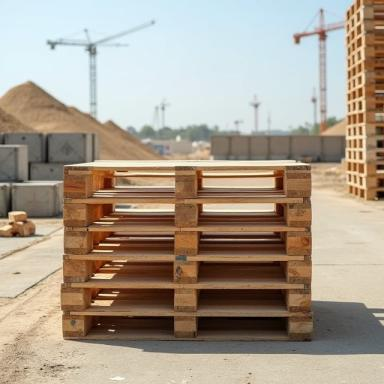pallet: (63, 160, 311, 199), (62, 311, 313, 342), (61, 283, 312, 313), (62, 255, 311, 284), (63, 198, 311, 227), (64, 227, 312, 256), (197, 316, 287, 334), (91, 316, 174, 330)
